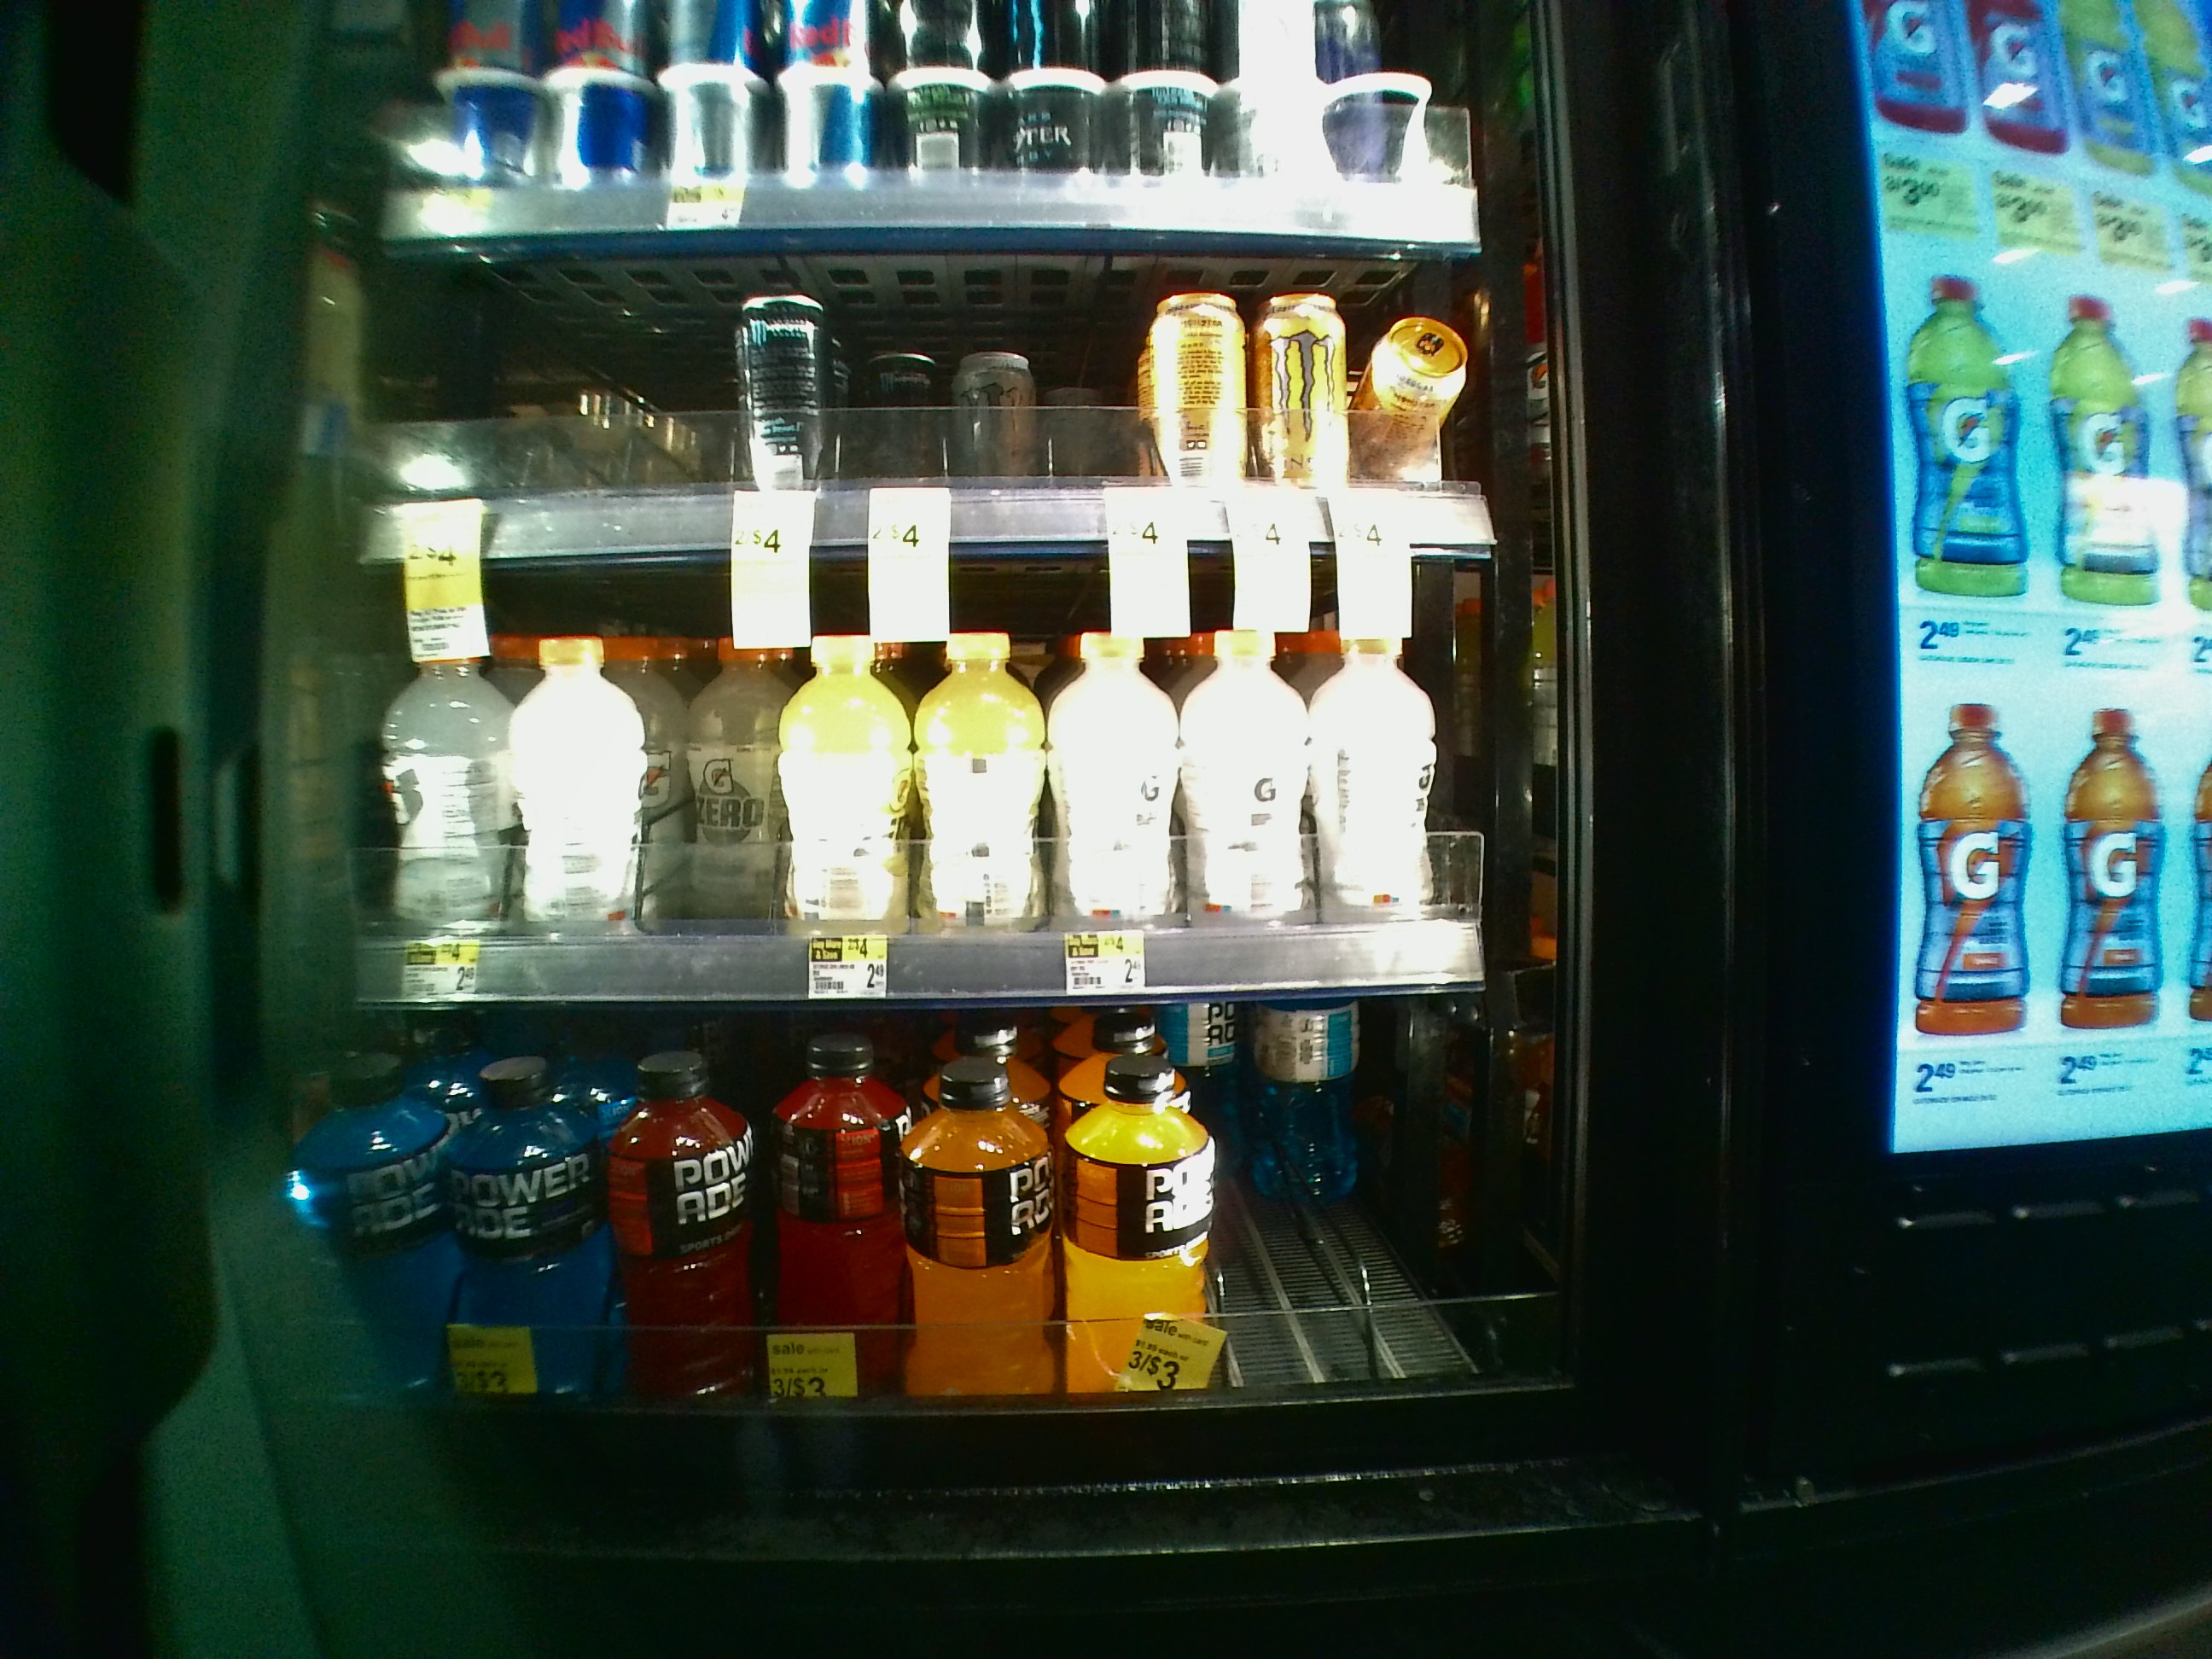shelf: (326, 552, 1573, 1009), (354, 246, 1569, 549)
